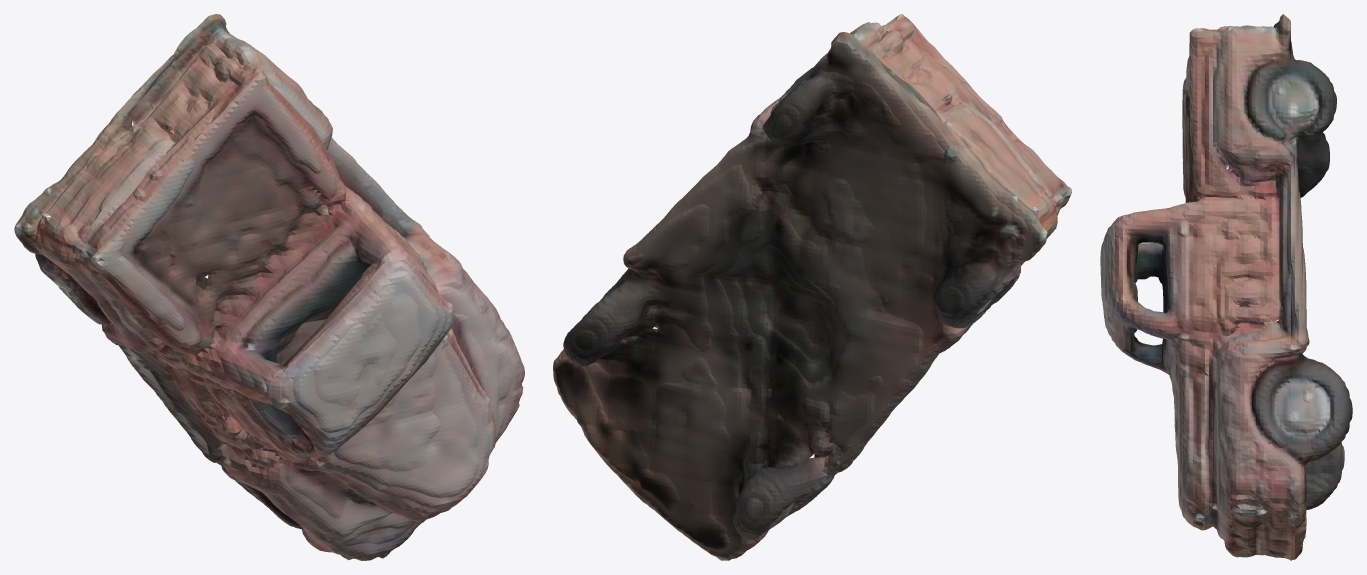
Rendered from 000003_us car_old_vintage.glb.
3 views of the same model, side by side, from view 1: azimuth 30°, elevation 25°; view 2: azimuth 150°, elevation 25°; view 3: azimuth 270°, elevation 25° (orthographic). The views are drawn at different scales.
Parts seen in each view (by area): view 1: world; view 2: world; view 3: world.
Boxes of the visible parts, x1=… form: world: x1=14, y1=14, x2=524, y2=560; world: x1=553, y1=14, x2=1071, y2=560; world: x1=1100, y1=14, x2=1352, y2=560.
Bounding box in the file's own units: 0.8608 × 0.9482 × 0.4399.
